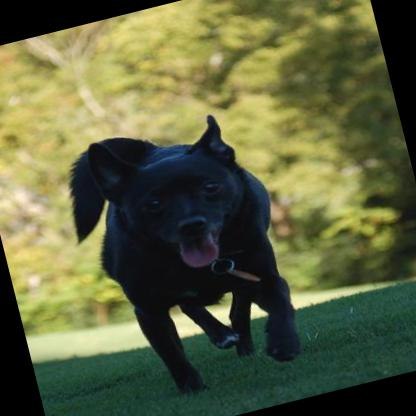schipperke: (50, 100, 310, 411)
